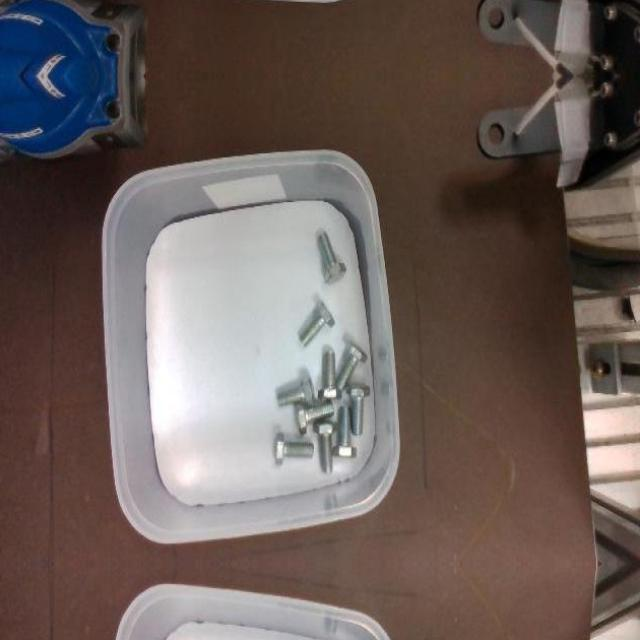screw: (300, 299, 336, 346), (336, 339, 368, 390), (318, 232, 347, 284), (274, 432, 314, 466), (346, 382, 371, 435), (333, 405, 358, 458), (295, 401, 335, 434), (314, 418, 338, 473), (277, 376, 317, 407), (318, 350, 342, 401)
